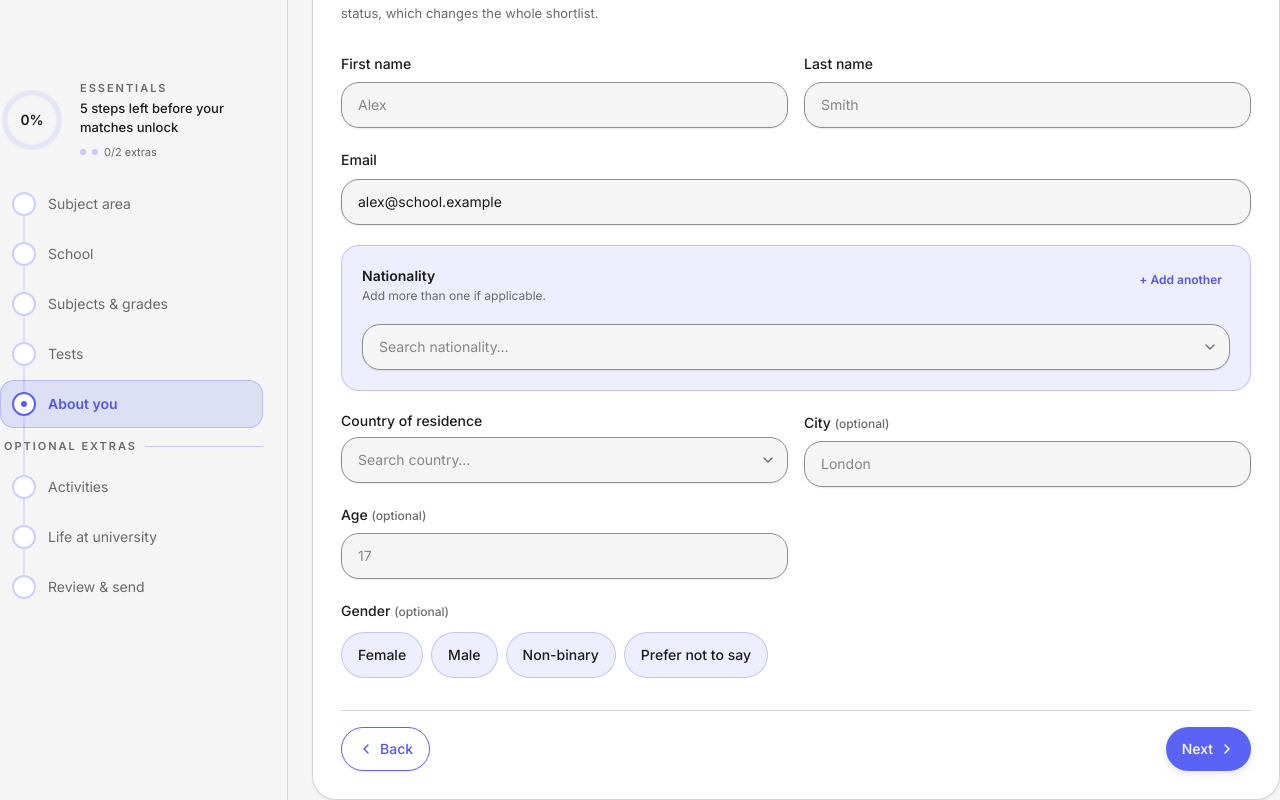
Scenario: step navigation › does not ask for an email it already has
(page scrolled)
Check: the field labelled "Email" holds "alex@school.example", box [341,178,1251,224]
Click the button "Next".
click(1208, 749)  # box [1166,727,1251,771]
(page scrolled)
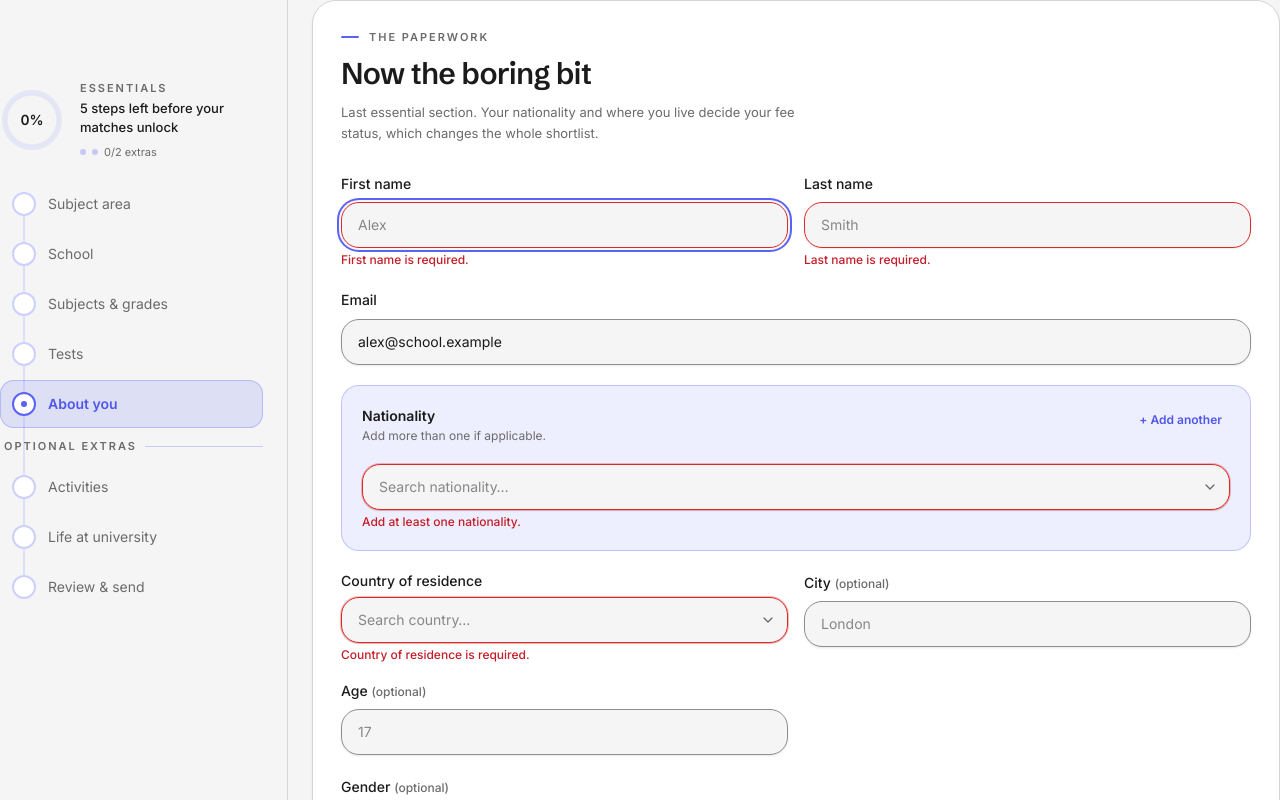
Check: the text "First name is required." is shown, box [341,252,469,267]
